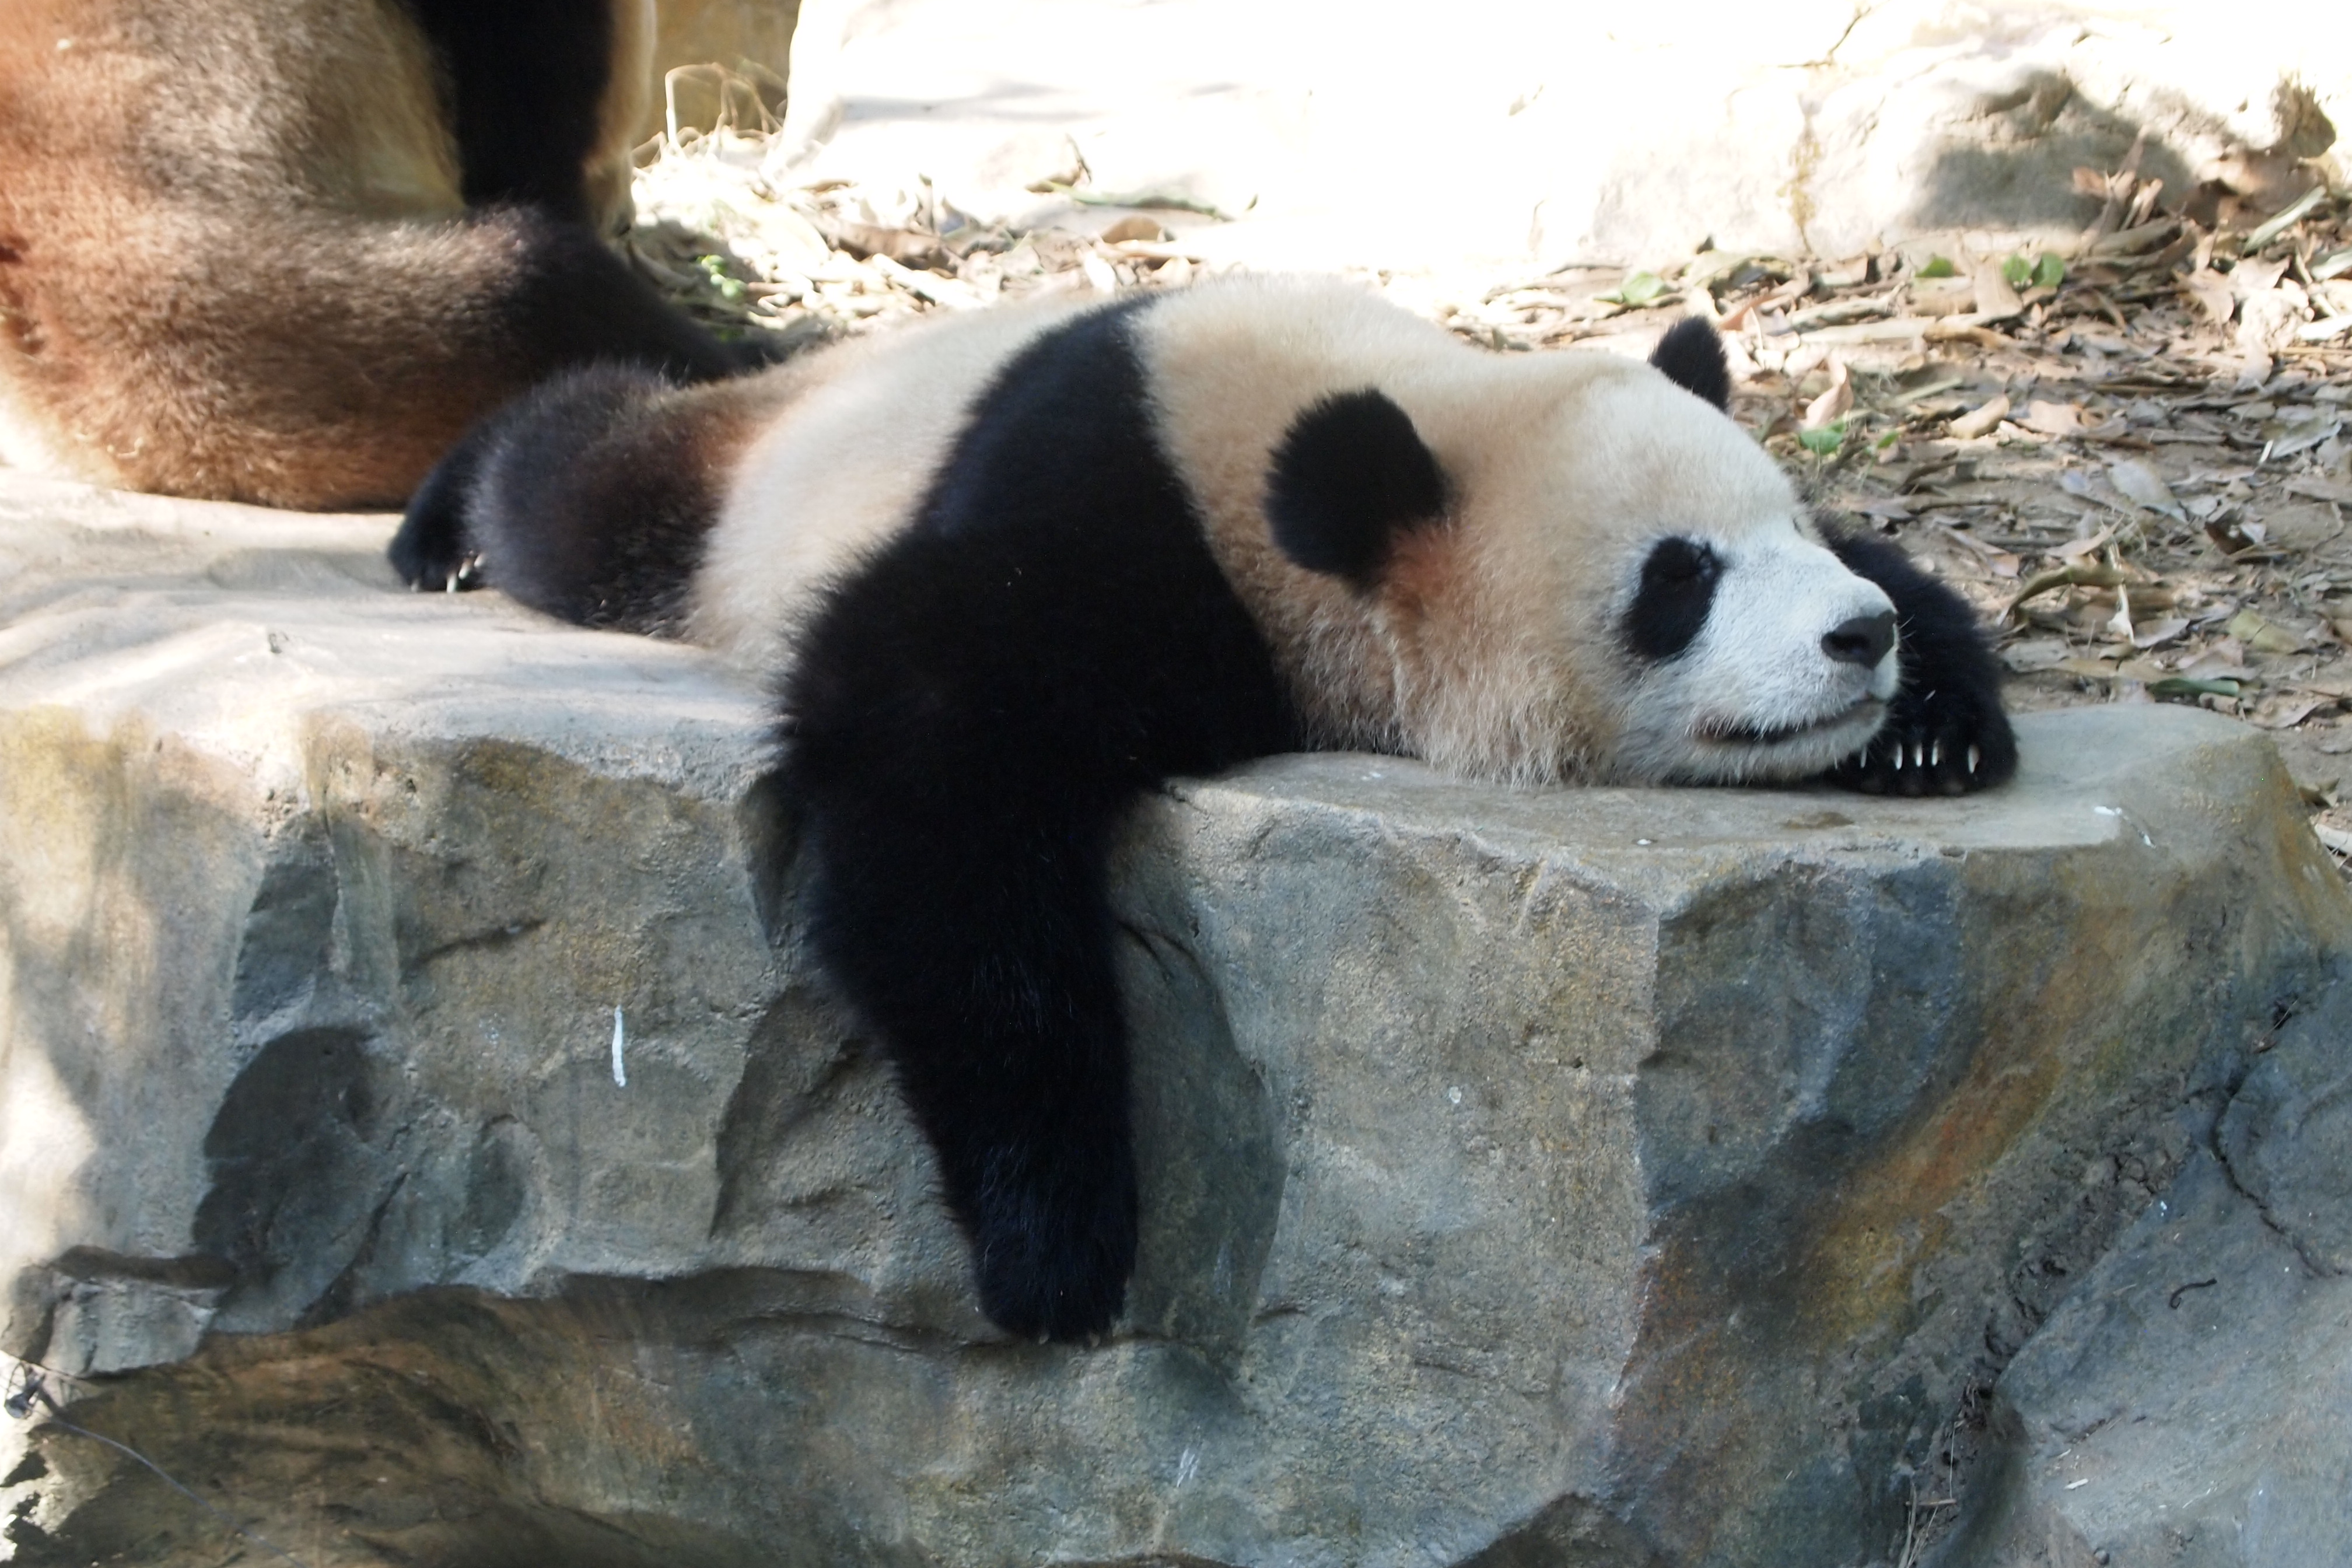panda: (450, 257, 2072, 1297)
